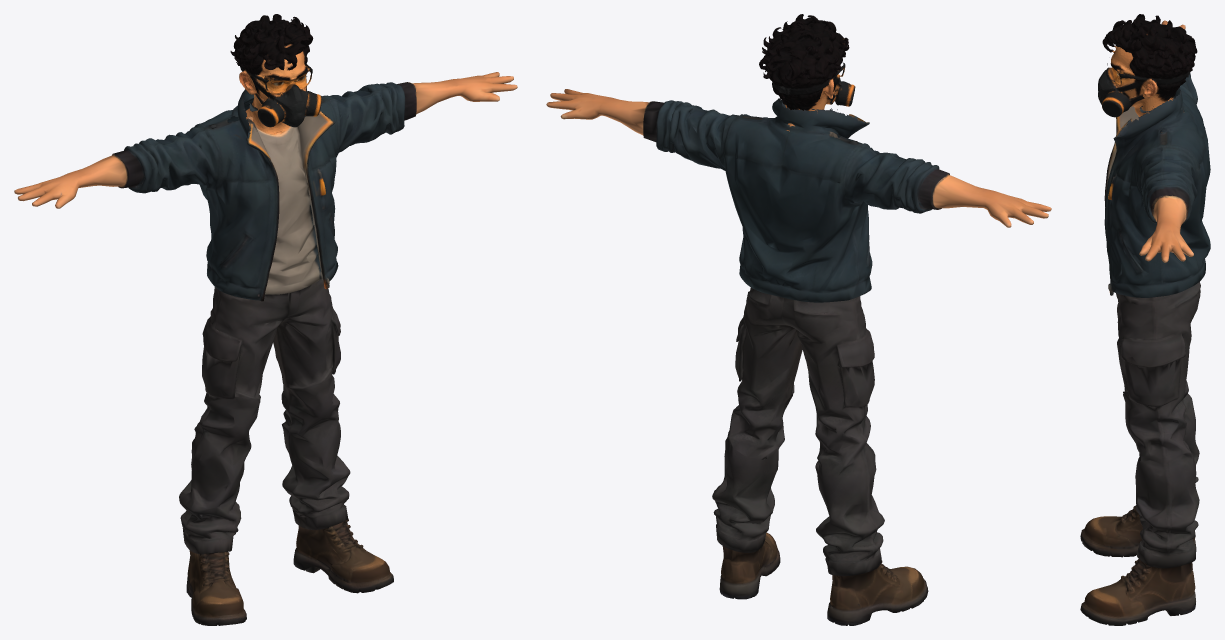
File: prepared.glb
The picture shows the model from 3 angles, left to right: view 1: azimuth 30°, elevation 25°; view 2: azimuth 150°, elevation 25°; view 3: azimuth 270°, elevation 25°; orthographic projection.
Parts seen in each view (by area): view 1: operator_protagonist; view 2: operator_protagonist; view 3: operator_protagonist.
Boxes of the visible parts, x1,y1,x2,y2 form: operator_protagonist: [14, 14, 517, 625]; operator_protagonist: [546, 14, 1051, 625]; operator_protagonist: [1080, 14, 1210, 625].
Bounding box in the file's own units: 1.6 × 1.75 × 0.3665.
Materials: 1 (1 with a texture image).
